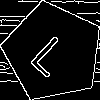L: (28, 27, 80, 79)
